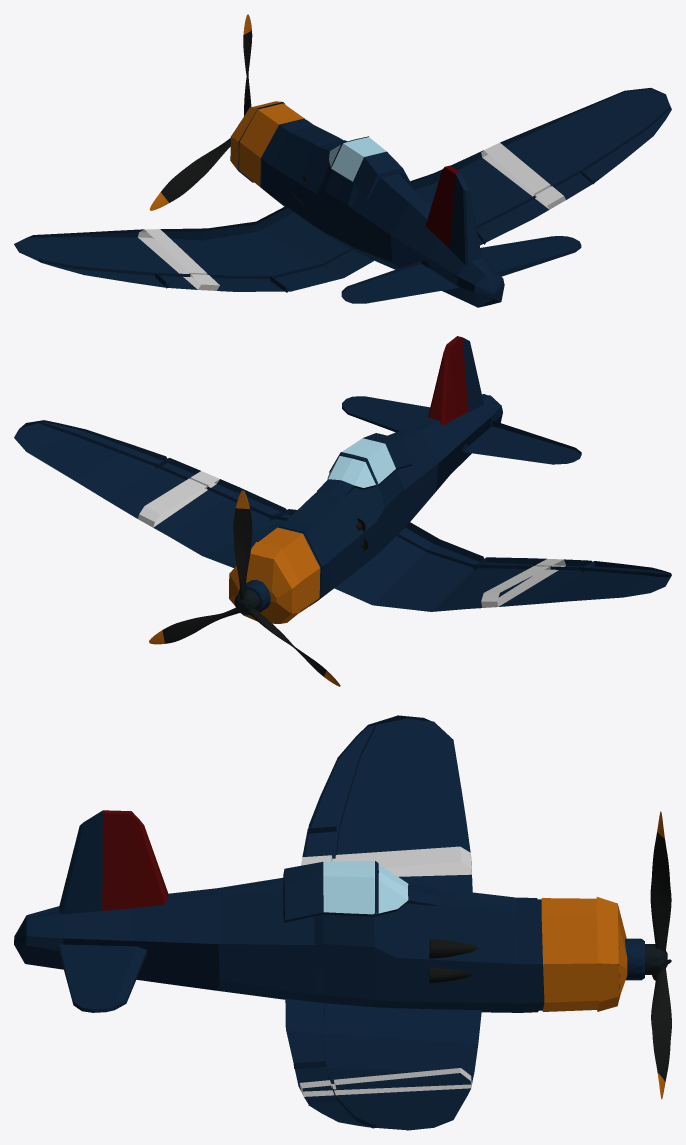
Rendered from avion-corsaire.fbx.
3 views of the same model, one above another, from view 1: azimuth 30°, elevation 25°; view 2: azimuth 150°, elevation 25°; view 3: azimuth 270°, elevation 25° (orthographic). The views are drawn at different scales.
Visible parts, largest first — view 1: Cube011, Cube011_5, Cube011_2, Cube004, Cube011_6, Cube011_1; view 2: Cube011, Cube011_2, Cube004, Cube011_5, Cube011_6, Cube011_1; view 3: Cube011, Cube011_2, Cube011_6, Cube011_5, Cube004, Cube011_1, Cube011_4.
Boxes of the visible parts, bbox=[...] form: Cube011: bbox=[14, 88, 671, 307]; Cube011_5: bbox=[138, 142, 565, 290]; Cube011_2: bbox=[230, 101, 304, 186]; Cube004: bbox=[149, 14, 252, 210]; Cube011_6: bbox=[425, 165, 460, 248]; Cube011_1: bbox=[329, 137, 386, 181]; Cube011: bbox=[14, 337, 671, 623]; Cube011_2: bbox=[229, 527, 320, 623]; Cube004: bbox=[149, 490, 340, 686]; Cube011_5: bbox=[138, 471, 565, 607]; Cube011_6: bbox=[428, 336, 468, 424]; Cube011_1: bbox=[327, 438, 395, 487]; Cube011: bbox=[14, 715, 644, 1130]; Cube011_2: bbox=[541, 897, 627, 1011]; Cube011_6: bbox=[102, 810, 168, 910]; Cube011_5: bbox=[299, 846, 471, 1096]; Cube004: bbox=[650, 811, 671, 1099]; Cube011_1: bbox=[323, 861, 408, 914]; Cube011_4: bbox=[429, 939, 477, 983].
Size of the model in its own units: 15.18 by 3.93 by 10.25.
